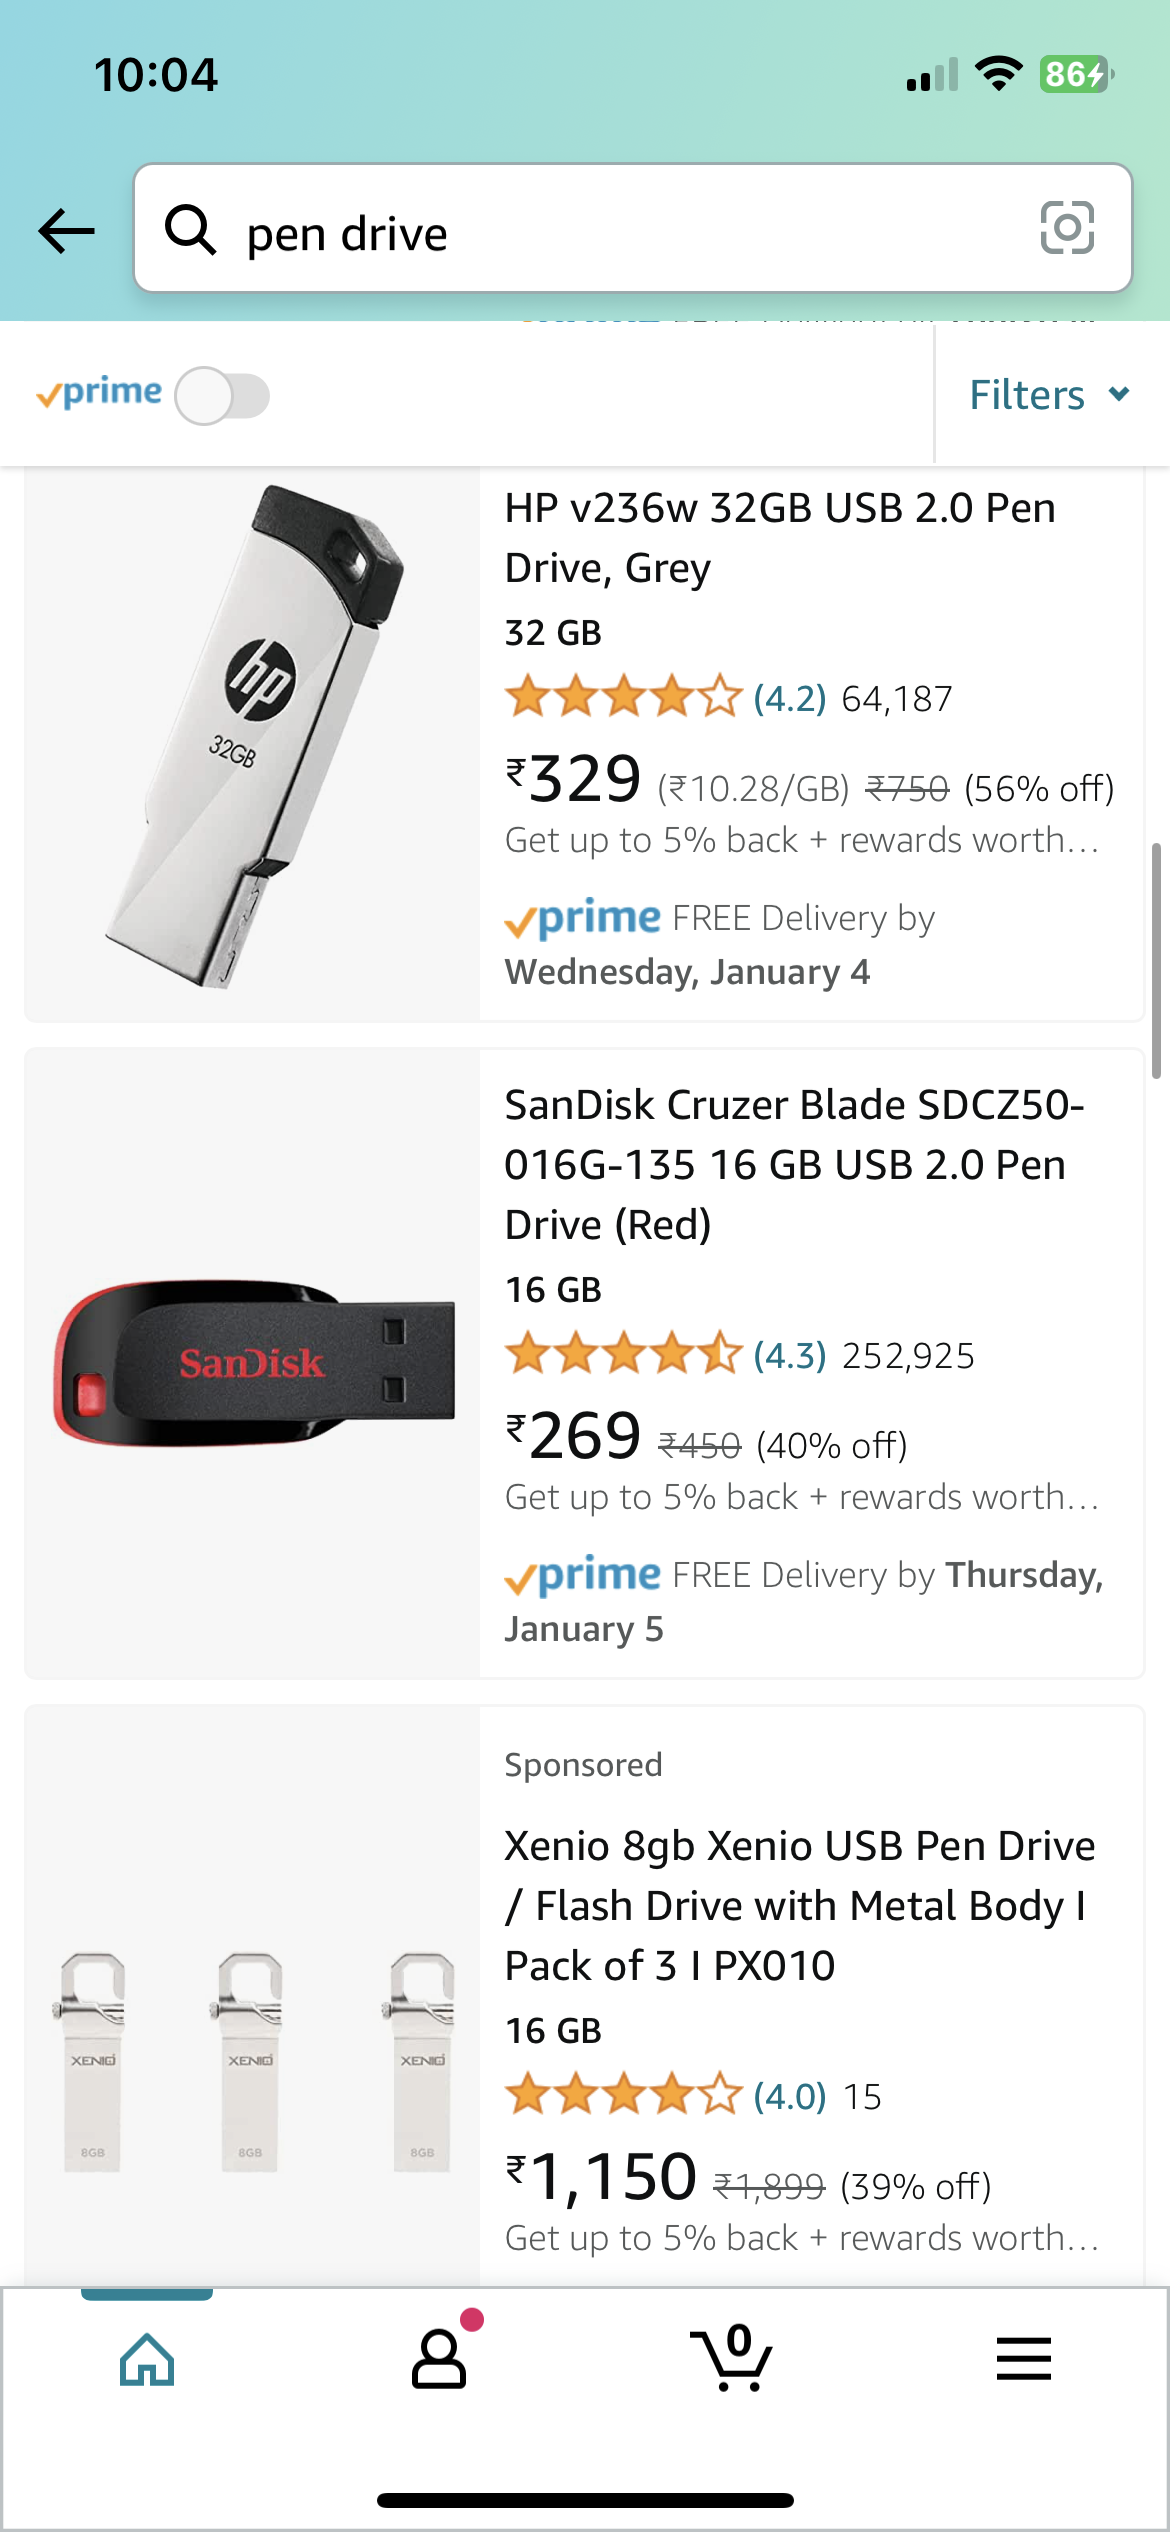PenDrive: (95, 481, 403, 996), (52, 1269, 458, 1455), (44, 1939, 144, 2183), (203, 1947, 295, 2177), (384, 1956, 466, 2177)
